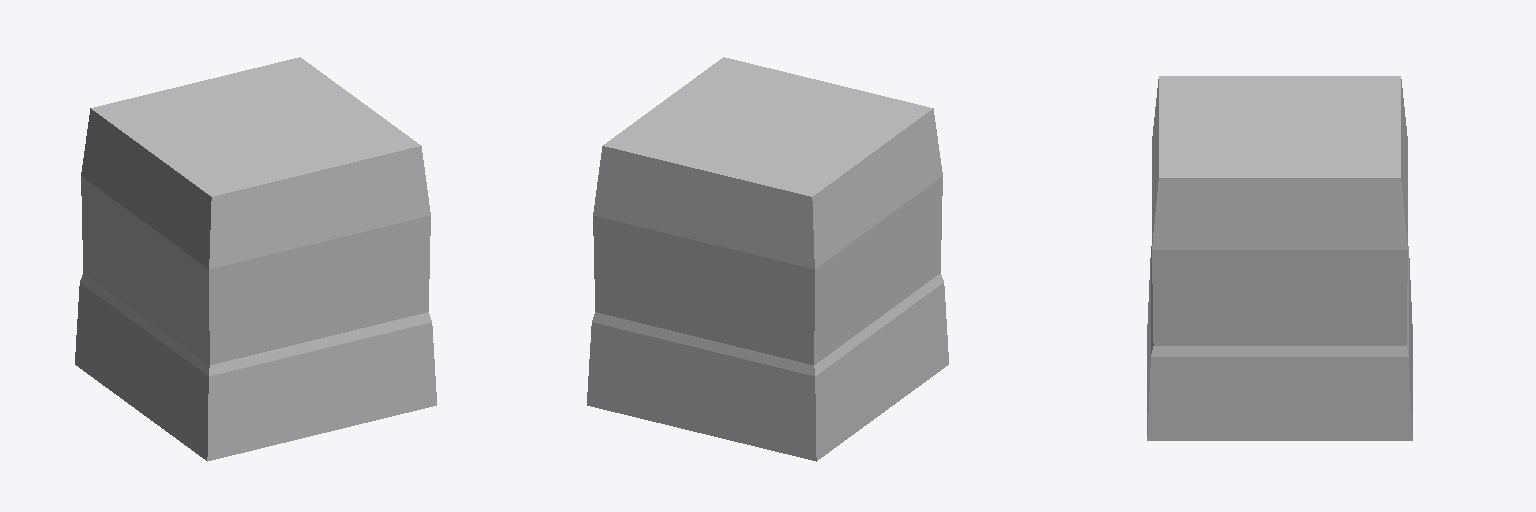
The model's file is solo.obj.
The picture shows the model from 3 angles: view 1: azimuth 30°, elevation 25°; view 2: azimuth 150°, elevation 25°; view 3: azimuth 270°, elevation 25°; orthographic projection.
Size of the model in its own units: 0.9327 by 1 by 0.9327.